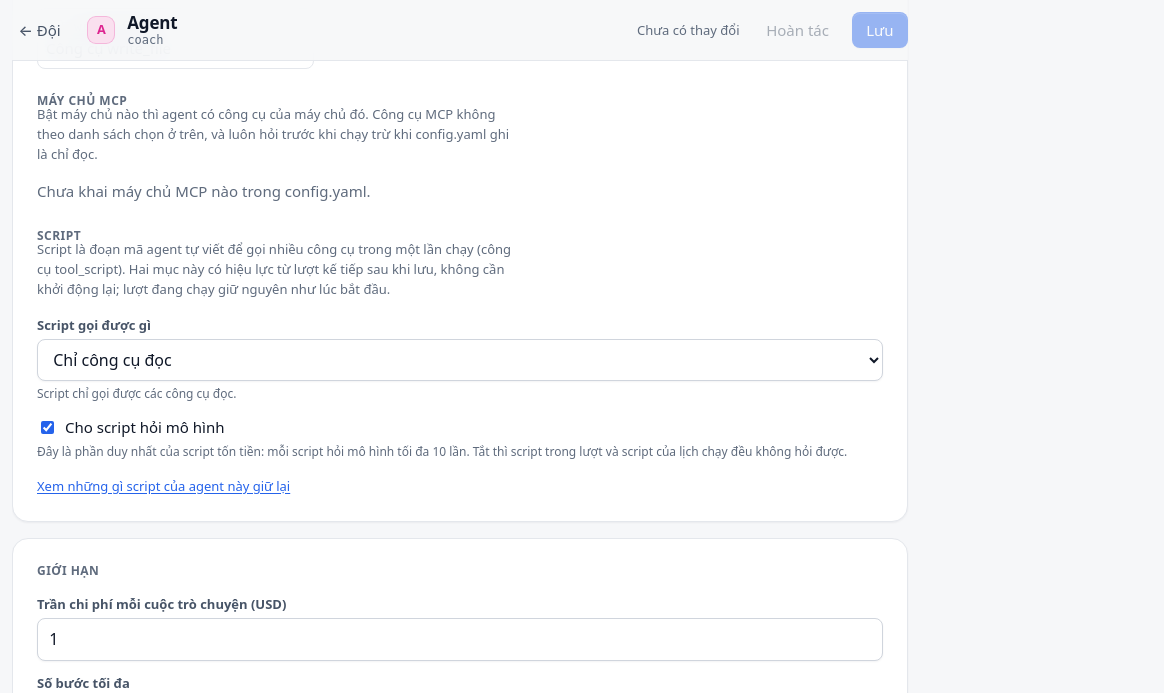
the editor of an agent on a server that reports none of the keys this release added › sends no browser key with a save of something else
(page scrolled)
Select "Cả công cụ thay đổi dữ liệu" in the dropdown labelled "Script gọi được gì" at (460, 360), box [37,339,883,381]
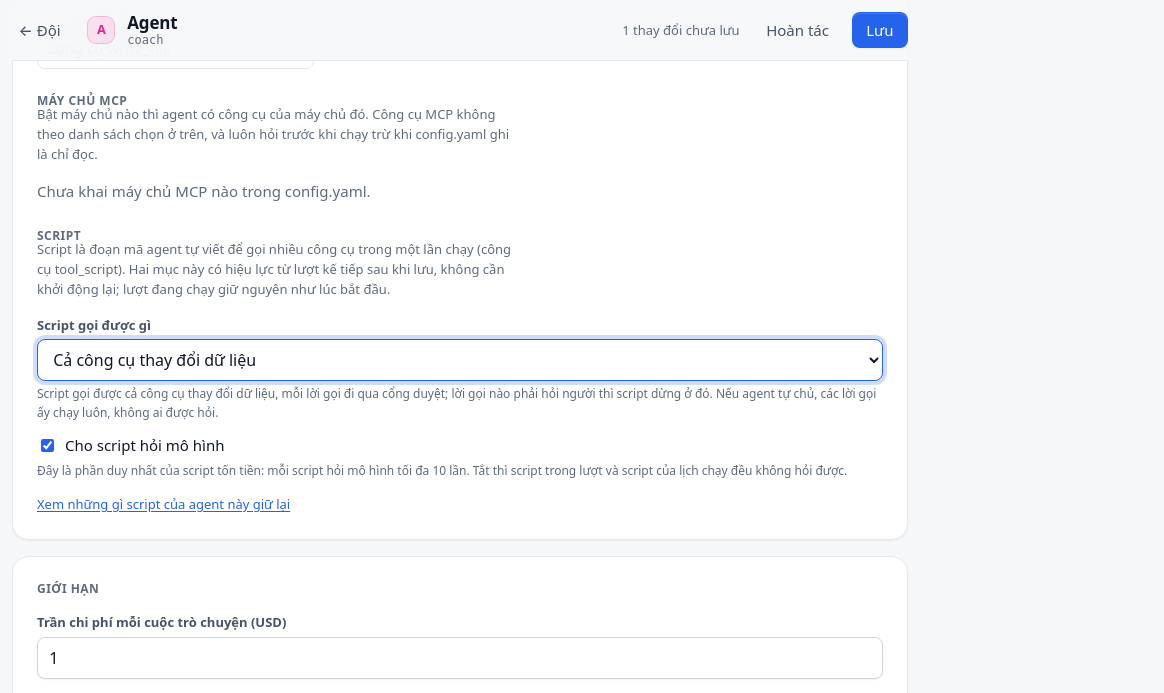
Click the button "Lưu" at (880, 30), box [852,12,908,48]
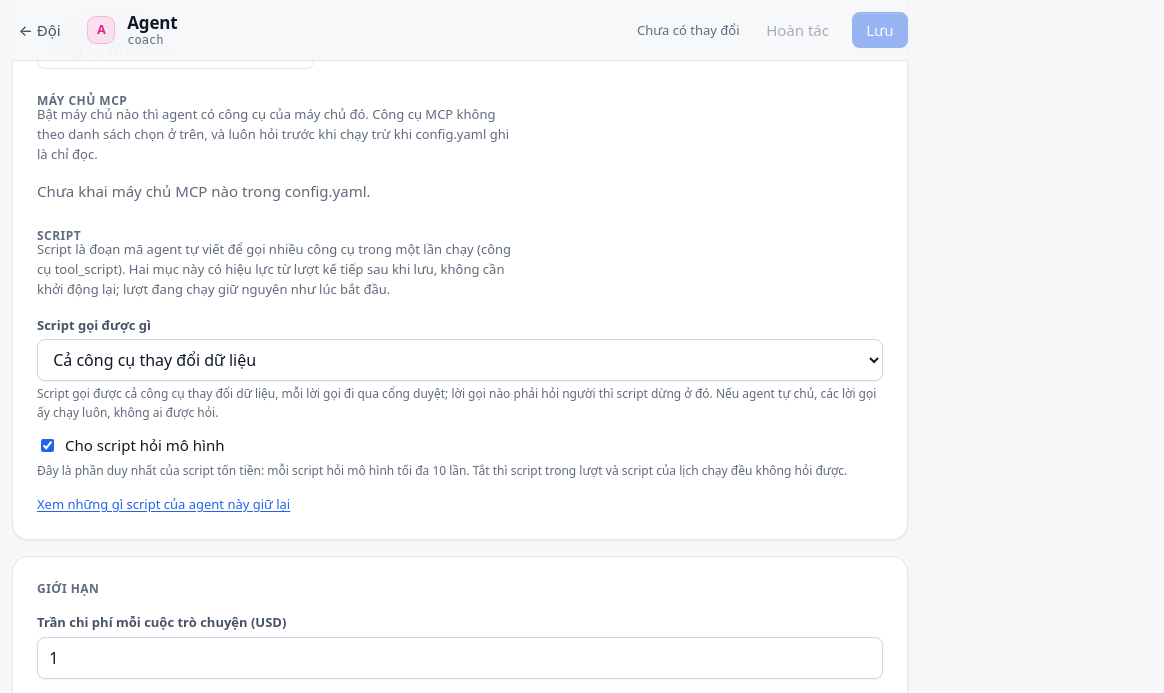
expect the text "Chưa có thay đổi" is shown: met, box [637,20,740,40]
